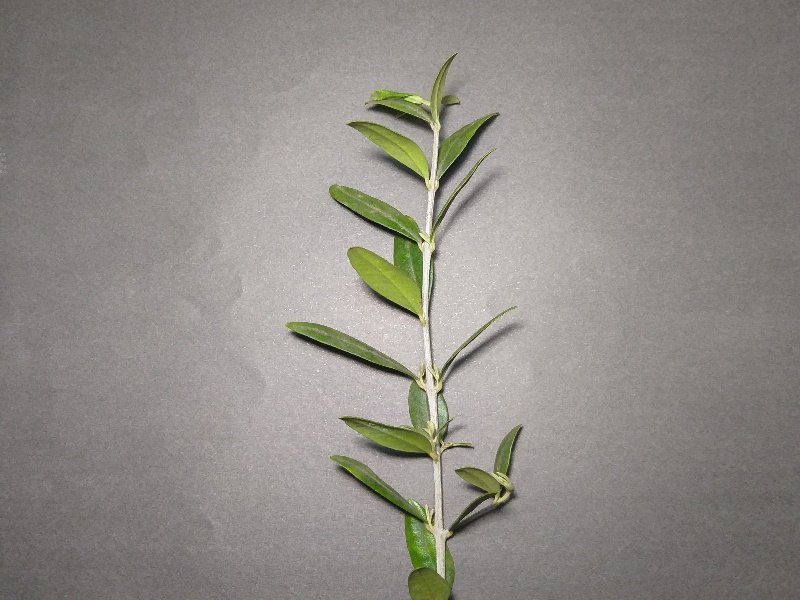yema: (415, 507, 460, 549), (412, 360, 449, 403), (420, 428, 452, 468), (414, 227, 441, 264), (424, 114, 453, 146), (419, 171, 448, 200)
